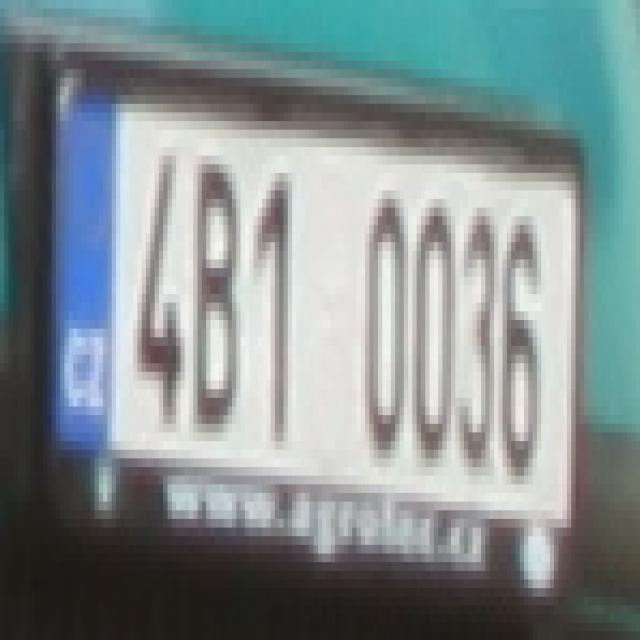0: (356, 182, 408, 450), (408, 199, 451, 467)
1: (249, 165, 292, 432)
3: (464, 199, 498, 467)
4: (133, 138, 185, 424)
6: (498, 198, 550, 484)
B: (193, 147, 244, 424)
